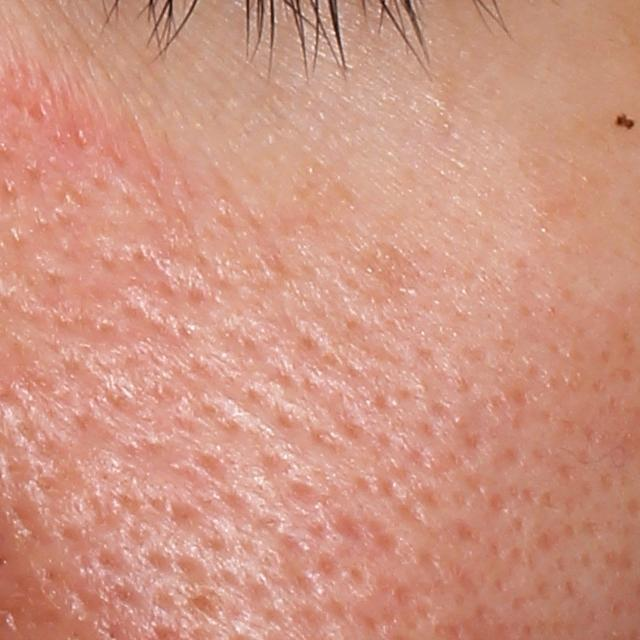nevus: (610, 109, 640, 130)
